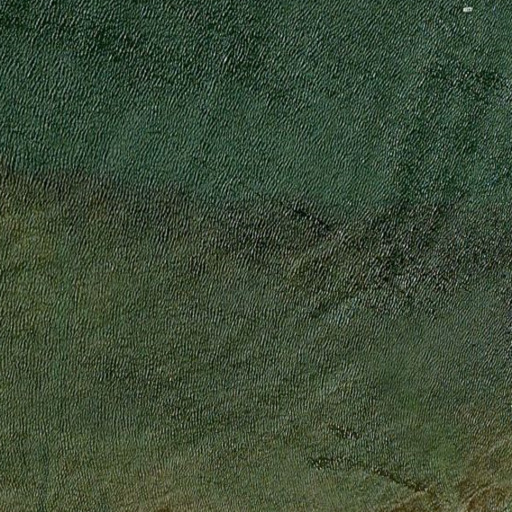ship: (460, 4, 477, 15)
